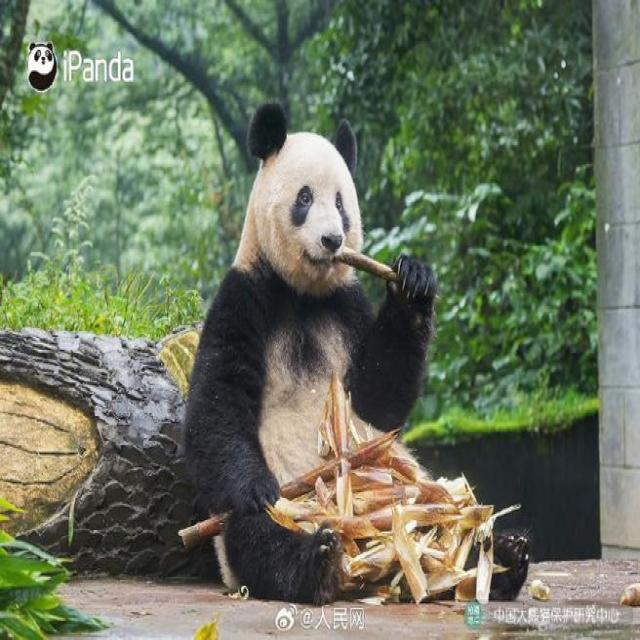panda: (120, 123, 530, 617)
